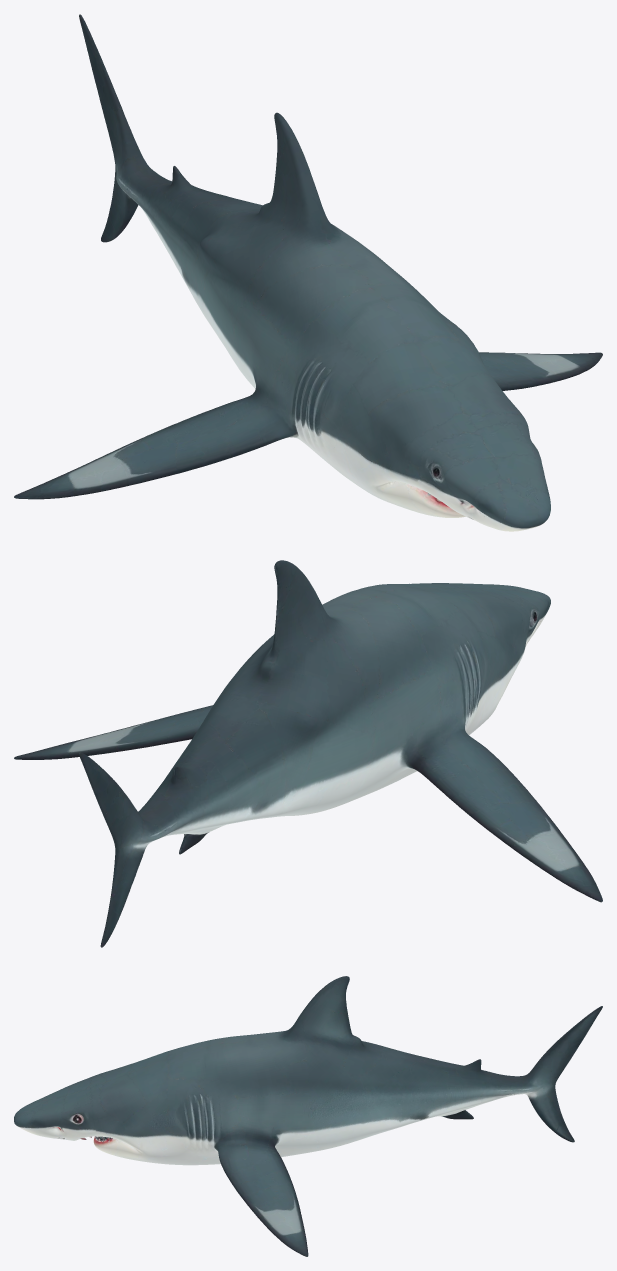
The model's file is shark.min.glb.
3 views of the same model, one above another, from view 1: azimuth 30°, elevation 25°; view 2: azimuth 150°, elevation 25°; view 3: azimuth 270°, elevation 25° (orthographic). The views are drawn at different scales.
Size of the model in its own units: 1.42 by 0.6692 by 1.9.
Materials: 1 (1 with a texture image).
